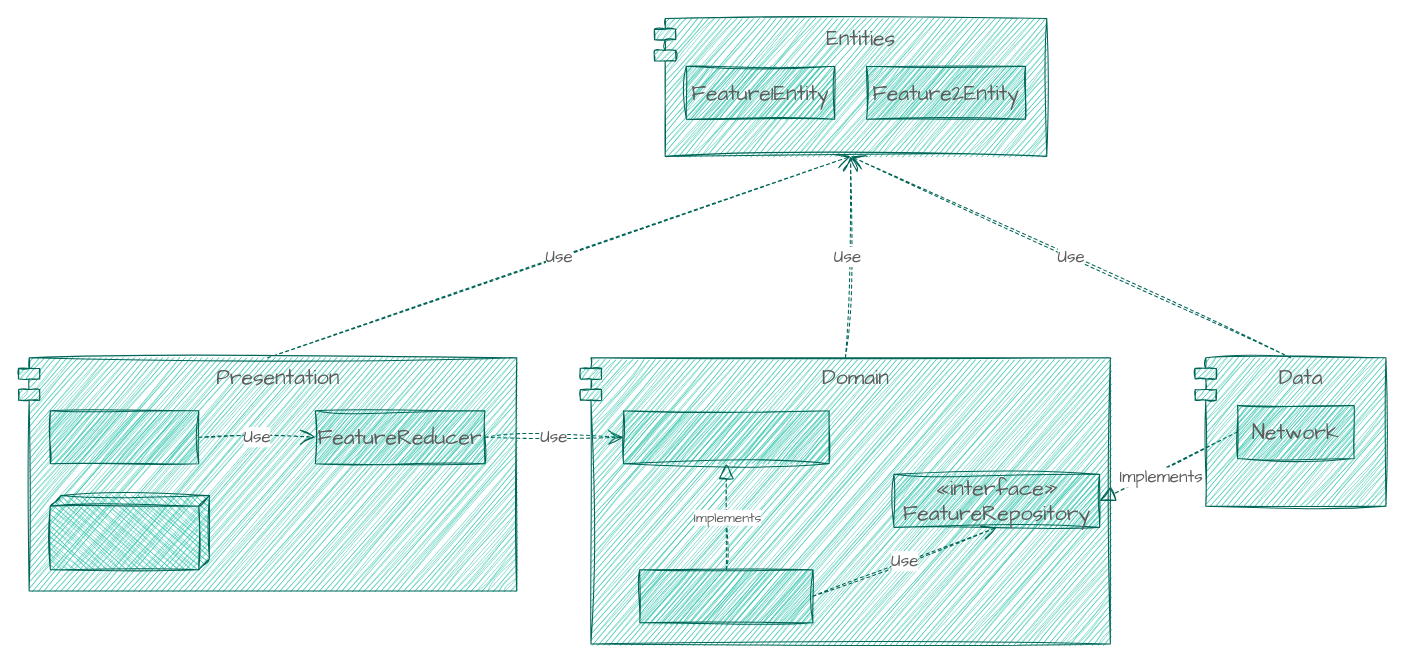
The diagram is 1404 pixels wide and 662 high, and some of its shapes have lost their labels. The shapes that lost their labels are listed below. From the top down, each one's centre as x and y in pixels, then its label:
(124,437): FeatureView
(726,437): «interface» FeatureUseCase
(129,532): DesignSystem
(726,596): FeatureUseCase
